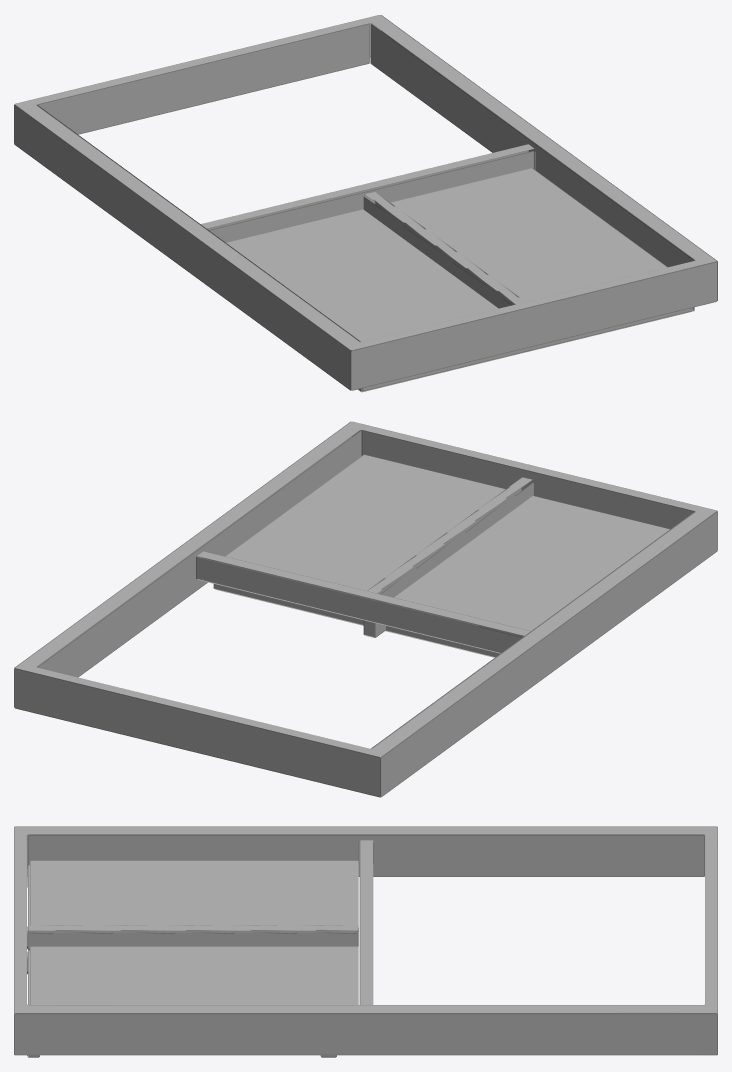
Rendered from pz_window_wooden_open.obj.
The picture shows the model from 3 angles, top to bottom: view 1: azimuth 30°, elevation 25°; view 2: azimuth 150°, elevation 25°; view 3: azimuth 270°, elevation 25°; orthographic projection. The views are drawn at different scales.
Parts seen in each view (by area): view 1: pz_window_wooden_open; view 2: pz_window_wooden_open; view 3: pz_window_wooden_open.
Part boxes in pixels (x1,y1,x2,y2): pz_window_wooden_open: (14,15,717,392); pz_window_wooden_open: (14,421,717,797); pz_window_wooden_open: (14,826,717,1057).
Size of the model in its own units: 0.6094 by 0.081 by 0.9696.
1 material, 1 textured.
